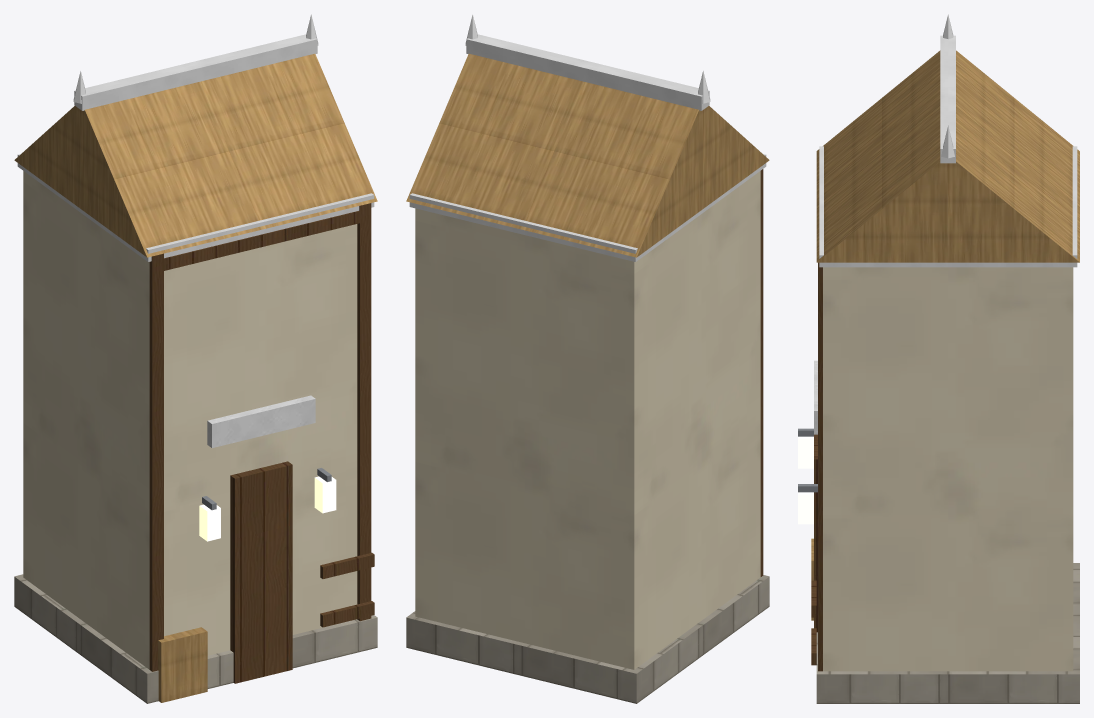
File: category.staking.t5.glb
3 renders of one model, left to right at view 1: azimuth 30°, elevation 25°; view 2: azimuth 150°, elevation 25°; view 3: azimuth 270°, elevation 25°, orthographic.
Visible parts, largest first — view 1: building.category.staking.t5; view 2: building.category.staking.t5; view 3: building.category.staking.t5.
Part boxes in pixels (box(x1,y1,x2,y2)): building.category.staking.t5: box(14, 14, 377, 703); building.category.staking.t5: box(406, 14, 769, 703); building.category.staking.t5: box(798, 14, 1079, 703).
Size of the model in its own units: 2.12 by 4.85 by 2.14.
8 materials, 7 textured.
